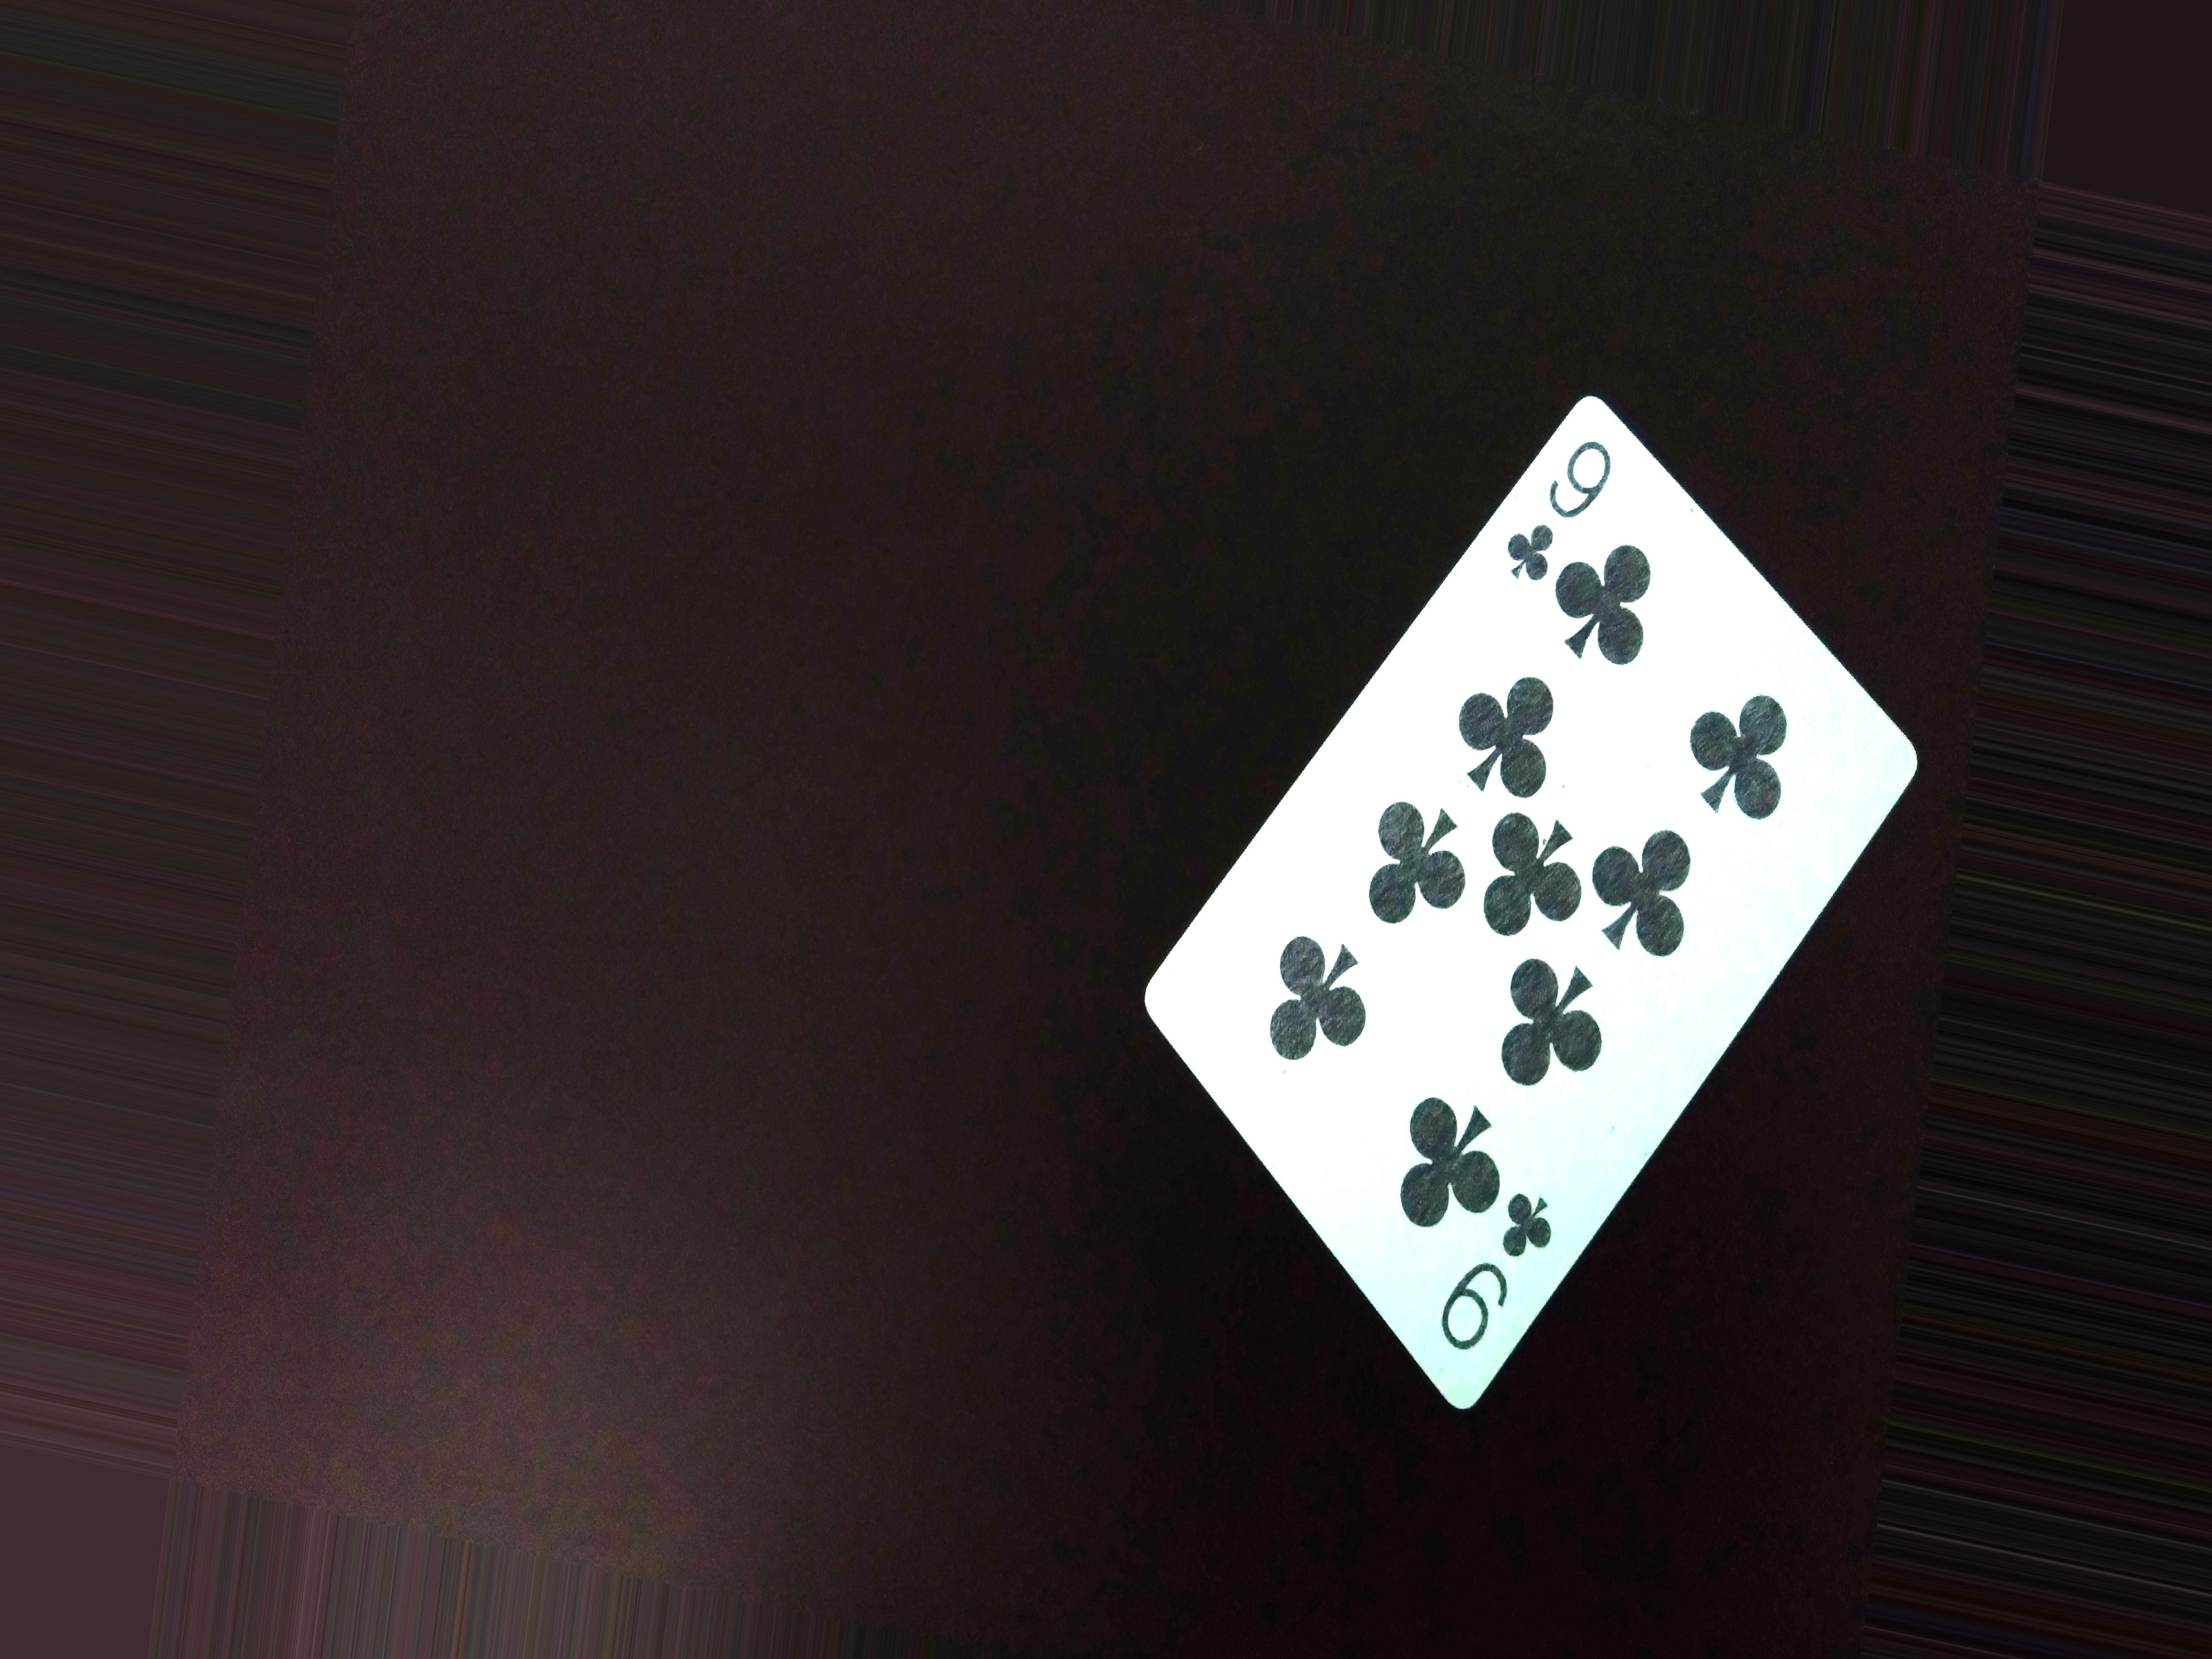9C: (1500, 415, 1623, 601)
